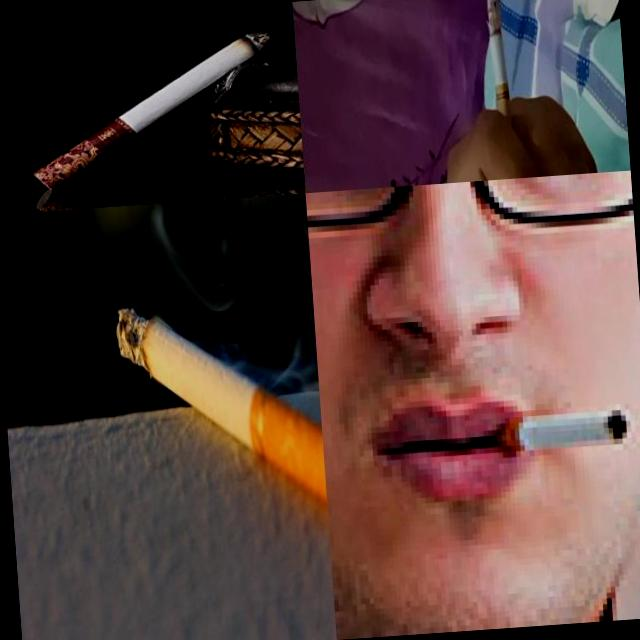cigarette: (114, 292, 326, 519), (22, 28, 282, 192), (504, 397, 636, 452), (484, 0, 515, 153)
